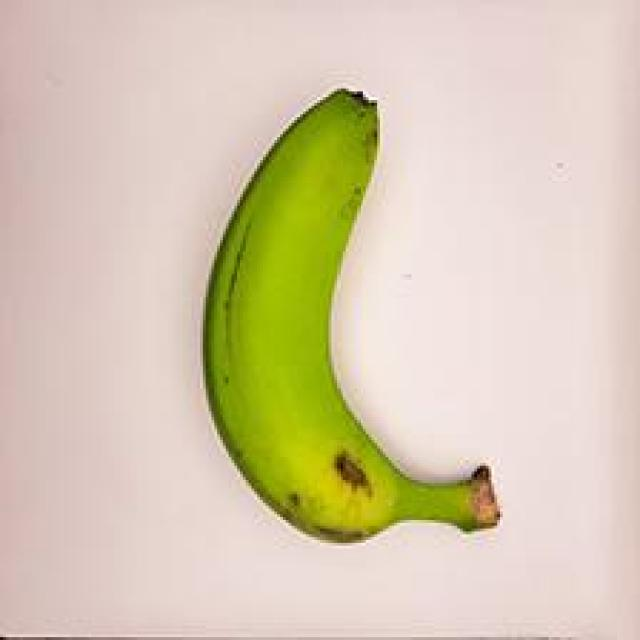Unripe: (177, 62, 525, 570)
